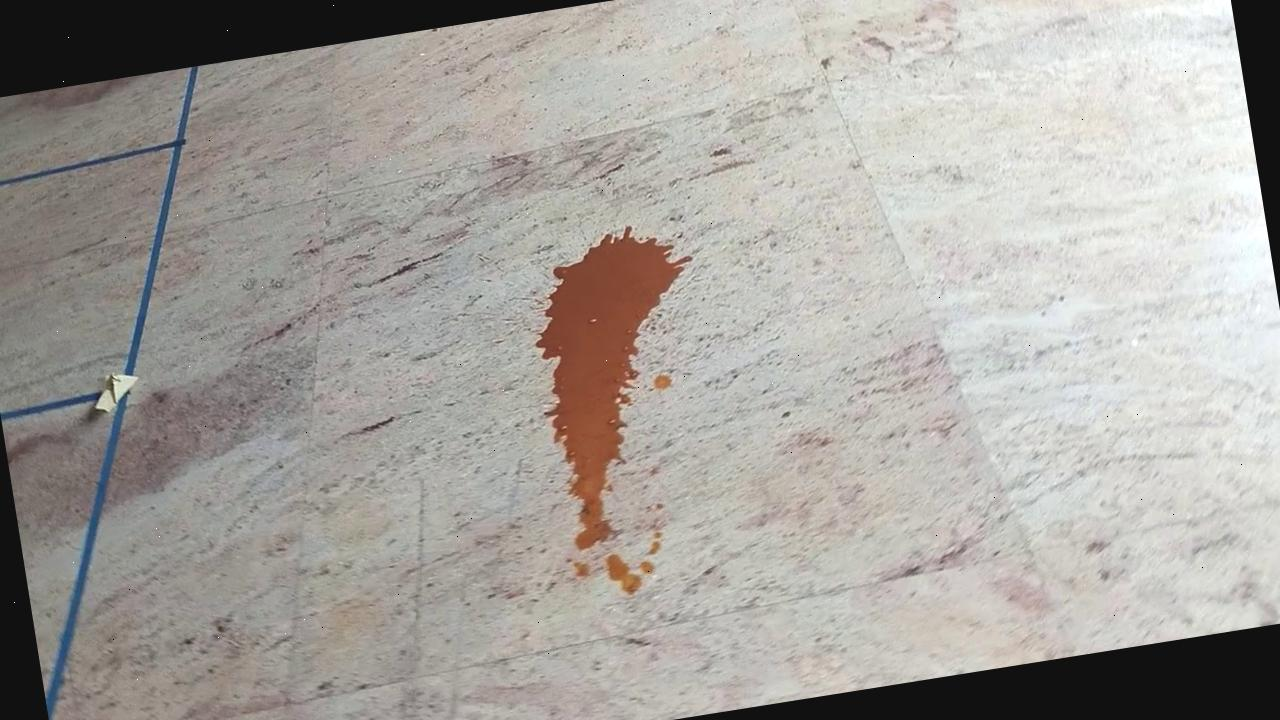dirty_floor: (519, 214, 740, 602)
